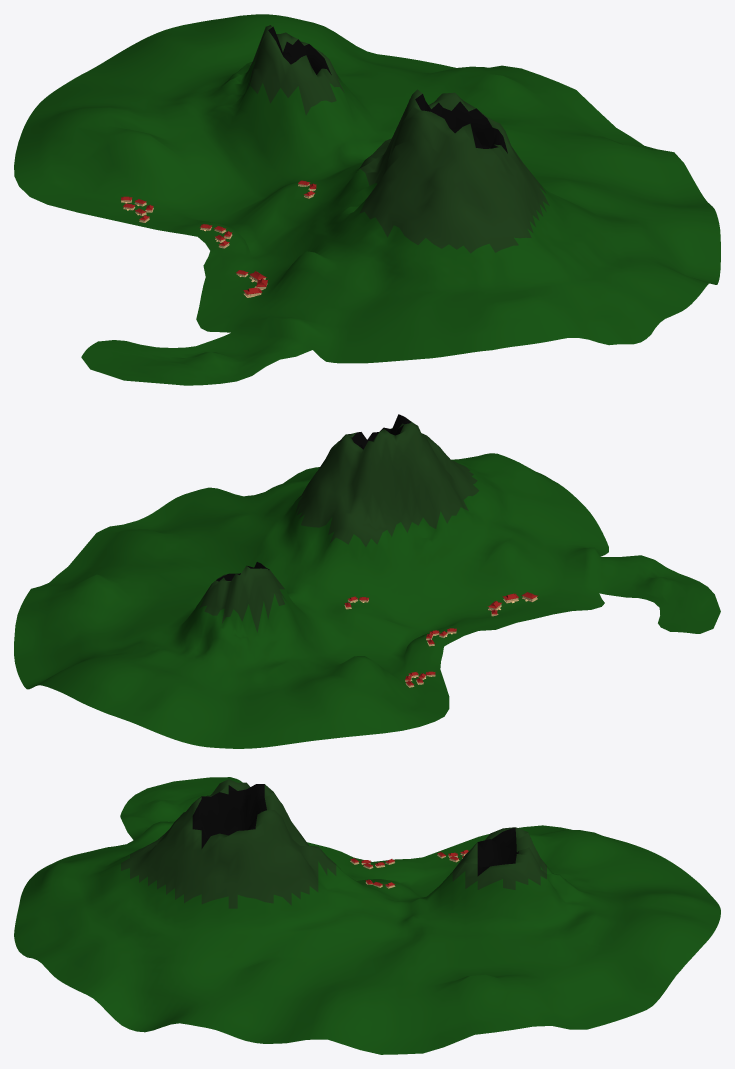
The model's file is Isla de Roku.fbx.
3 views of the same model, one above another, from view 1: azimuth 30°, elevation 25°; view 2: azimuth 150°, elevation 25°; view 3: azimuth 270°, elevation 25° (orthographic). The views are drawn at different scales.
Parts seen in each view (by area): view 1: VolcanoIsland; view 2: VolcanoIsland; view 3: VolcanoIsland.
Boxes of the visible parts, x1=… form: VolcanoIsland: x1=14, y1=14, x2=720, y2=385; VolcanoIsland: x1=14, y1=414, x2=720, y2=748; VolcanoIsland: x1=14, y1=777, x2=720, y2=1054.
Bounding box in the file's own units: 4232 × 1150 × 4727.
